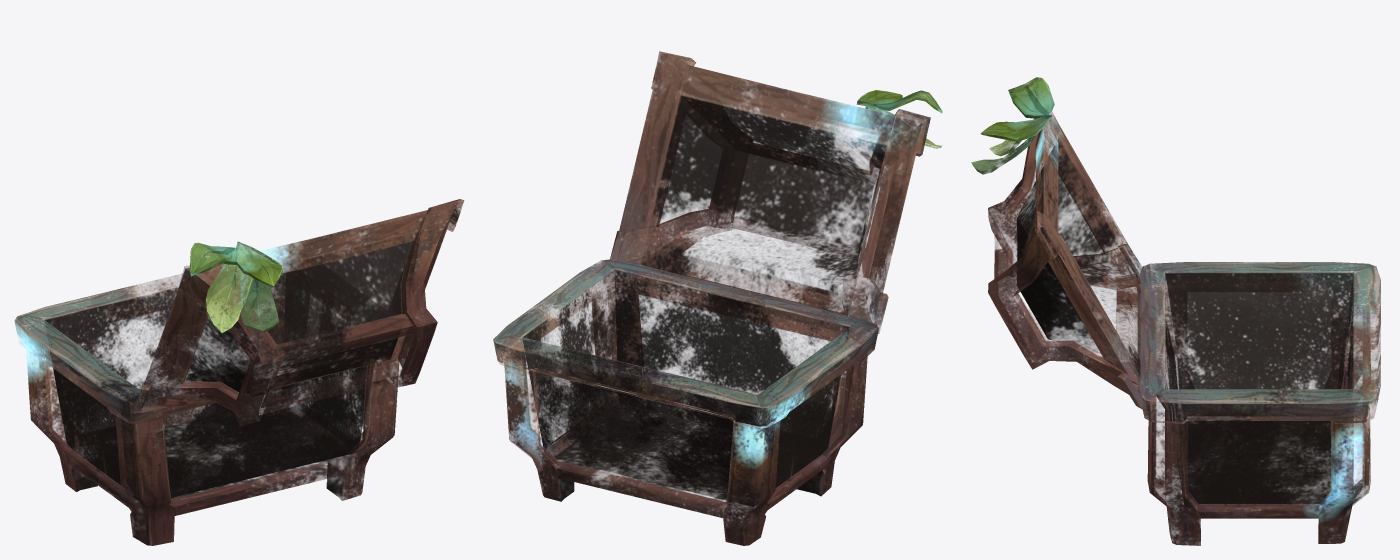
The model's file is chest_magic.glb.
The picture shows the model from 3 angles, left to right: view 1: azimuth 30°, elevation 25°; view 2: azimuth 150°, elevation 25°; view 3: azimuth 270°, elevation 25°; orthographic projection. The views are drawn at different scales.
Visible parts, largest first — view 1: polySurface40; view 2: polySurface40; view 3: polySurface40.
Boxes of the visible parts, box(x1,y1,x2,y2) form: polySurface40: box(14, 199, 464, 545); polySurface40: box(493, 51, 942, 545); polySurface40: box(971, 77, 1380, 545).
Bounding box in the file's own units: 1.49 × 1.93 × 1.52.
Materials: 1 (1 with a texture image).
